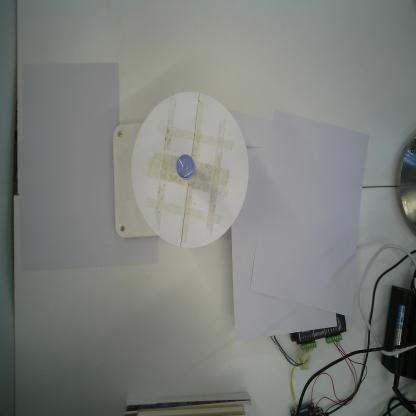Stationery: (174, 152, 197, 183)
